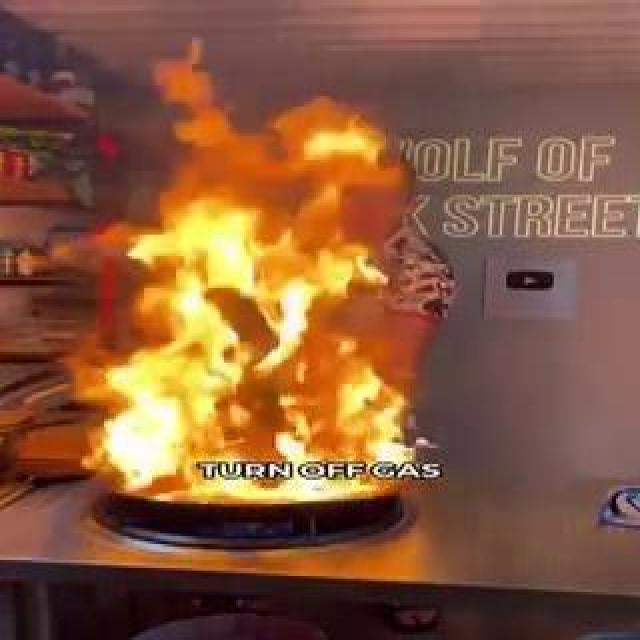Fire: (279, 288, 364, 442)
